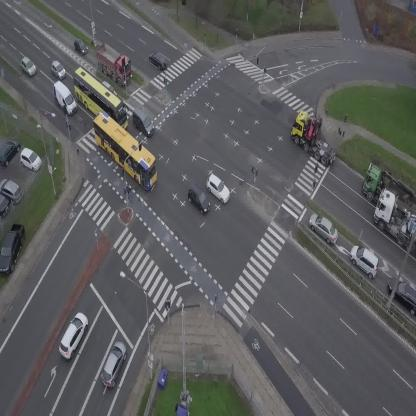bicycle: (125, 185, 131, 199)
bus: (82, 110, 168, 191), (62, 65, 138, 135)
car: (54, 310, 92, 361), (97, 339, 131, 390), (344, 242, 385, 280), (304, 210, 344, 247), (201, 173, 235, 205), (183, 184, 215, 216), (126, 107, 159, 138), (146, 48, 171, 72), (16, 55, 39, 79), (47, 59, 69, 81), (69, 36, 90, 58), (102, 80, 115, 91)
lorry: (283, 105, 352, 169), (86, 37, 141, 88), (46, 80, 83, 117)
